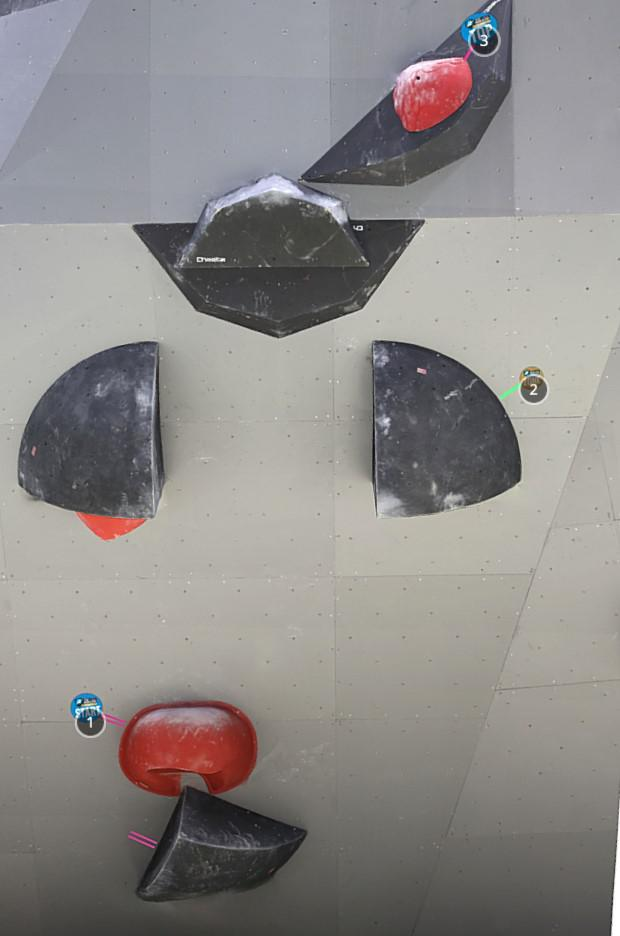hold: (117, 700, 258, 797), (392, 56, 472, 132), (76, 512, 147, 542)
volume: (300, 0, 512, 186), (131, 219, 425, 339), (17, 341, 167, 521), (372, 340, 522, 519), (135, 785, 308, 904), (174, 173, 370, 269)
